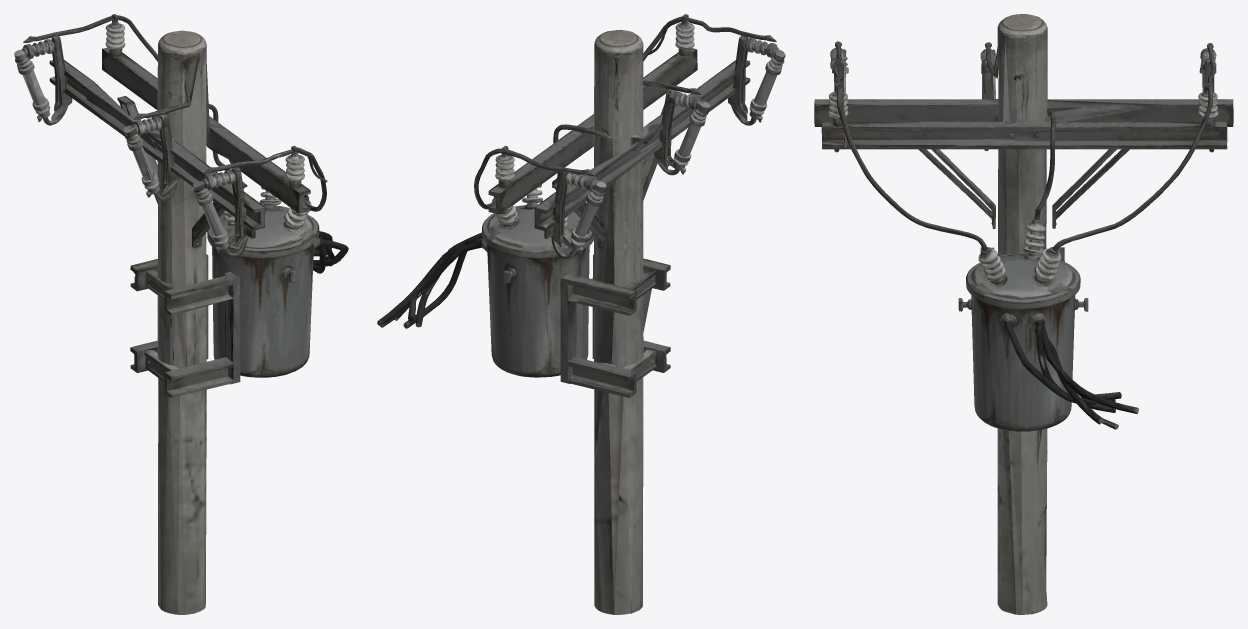
The model's file is pole_transformer_concrete.glb.
3 views of the same model, side by side, from view 1: azimuth 30°, elevation 25°; view 2: azimuth 150°, elevation 25°; view 3: azimuth 270°, elevation 25° (orthographic). The views are drawn at different scales.
Size of the model in its own units: 0.9512 by 1.9 by 1.24.
Materials: 1 (1 with a texture image).
